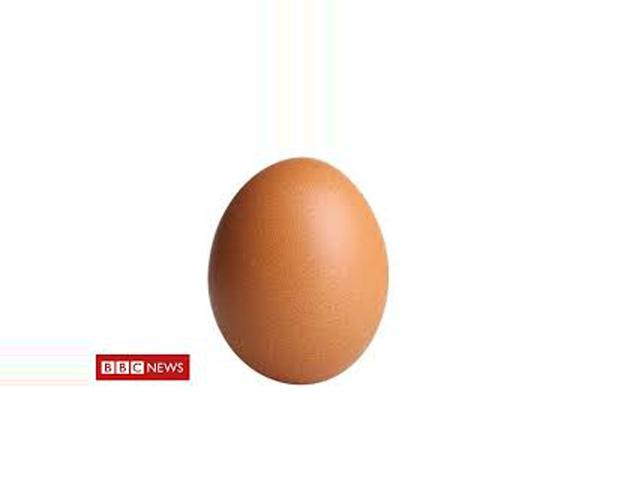egg: (209, 160, 388, 383)
